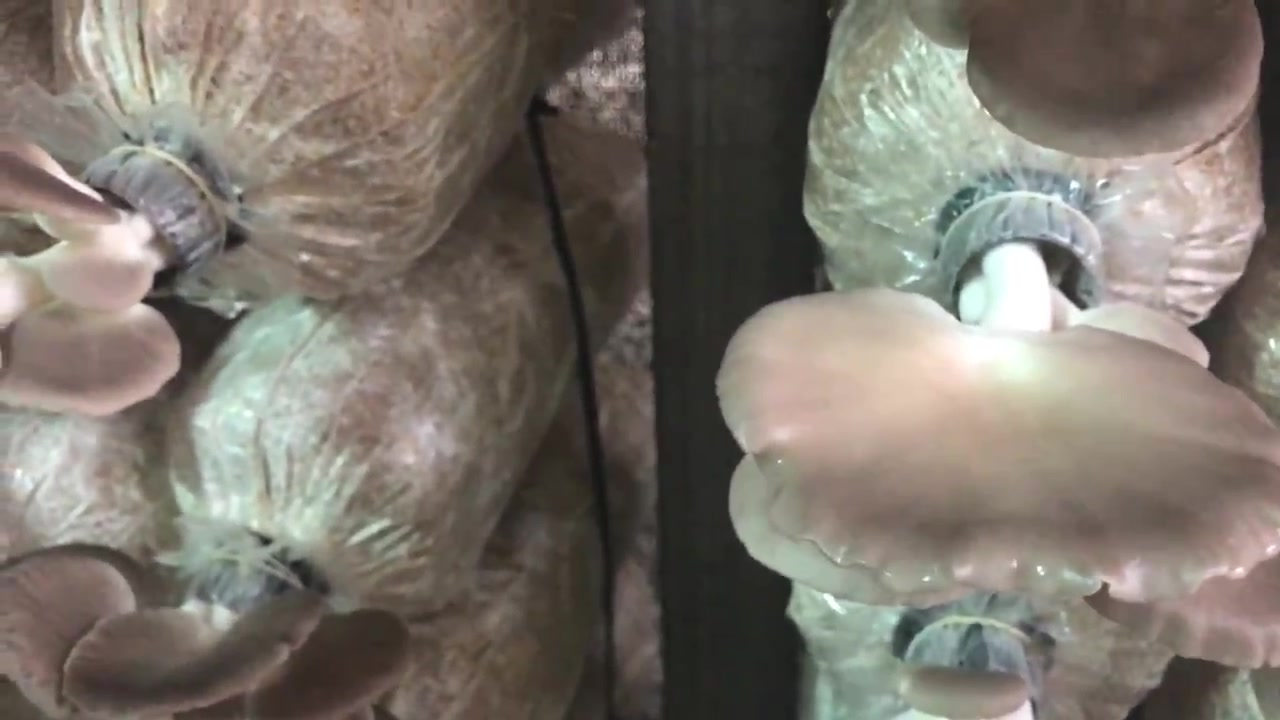nam: (711, 182, 1280, 613), (1, 539, 398, 720), (1, 130, 225, 416), (911, 1, 1261, 163)
